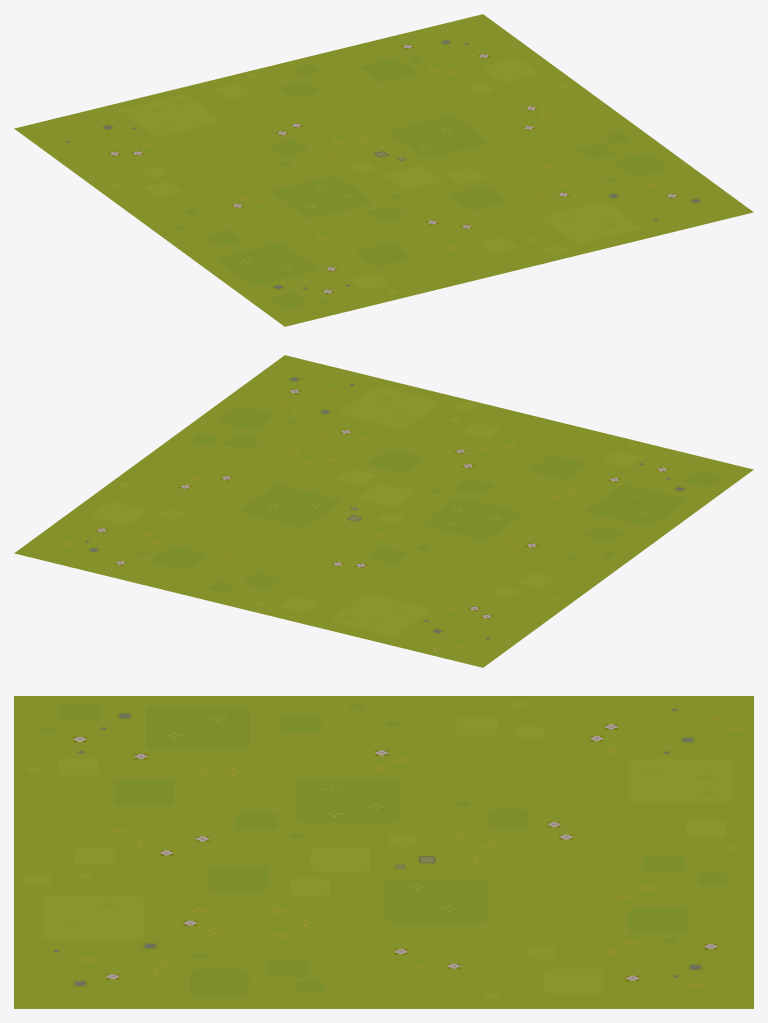
Rendered from C_grass2_09.fbx.
The picture shows the model from 3 angles, top to bottom: view 1: azimuth 30°, elevation 25°; view 2: azimuth 150°, elevation 25°; view 3: azimuth 270°, elevation 25°; orthographic projection. The views are drawn at different scales.
Parts seen in each view (by area): view 1: C_grass2_09; view 2: C_grass2_09; view 3: C_grass2_09.
Part boxes in pixels (box(x1,y1,x2,y2)): C_grass2_09: box(14, 14, 753, 326); C_grass2_09: box(14, 355, 753, 667); C_grass2_09: box(14, 696, 753, 1008).
Bounding box in the file's own units: 50 × 0.1888 × 50.
